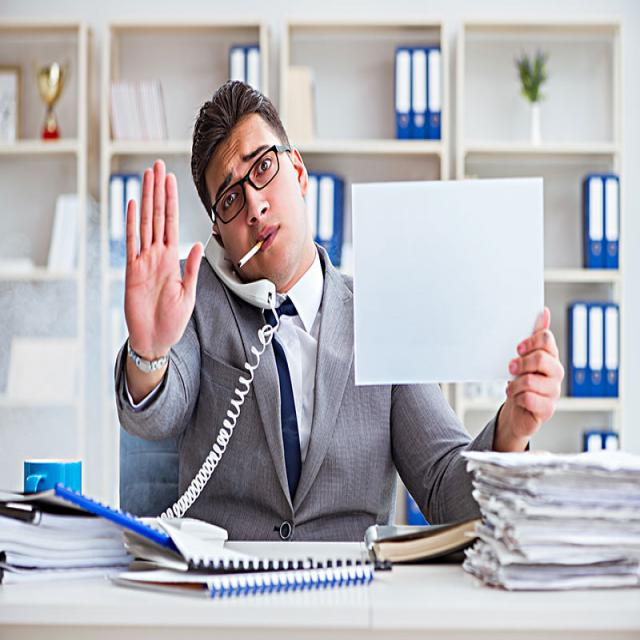smoking: (235, 236, 265, 271)
